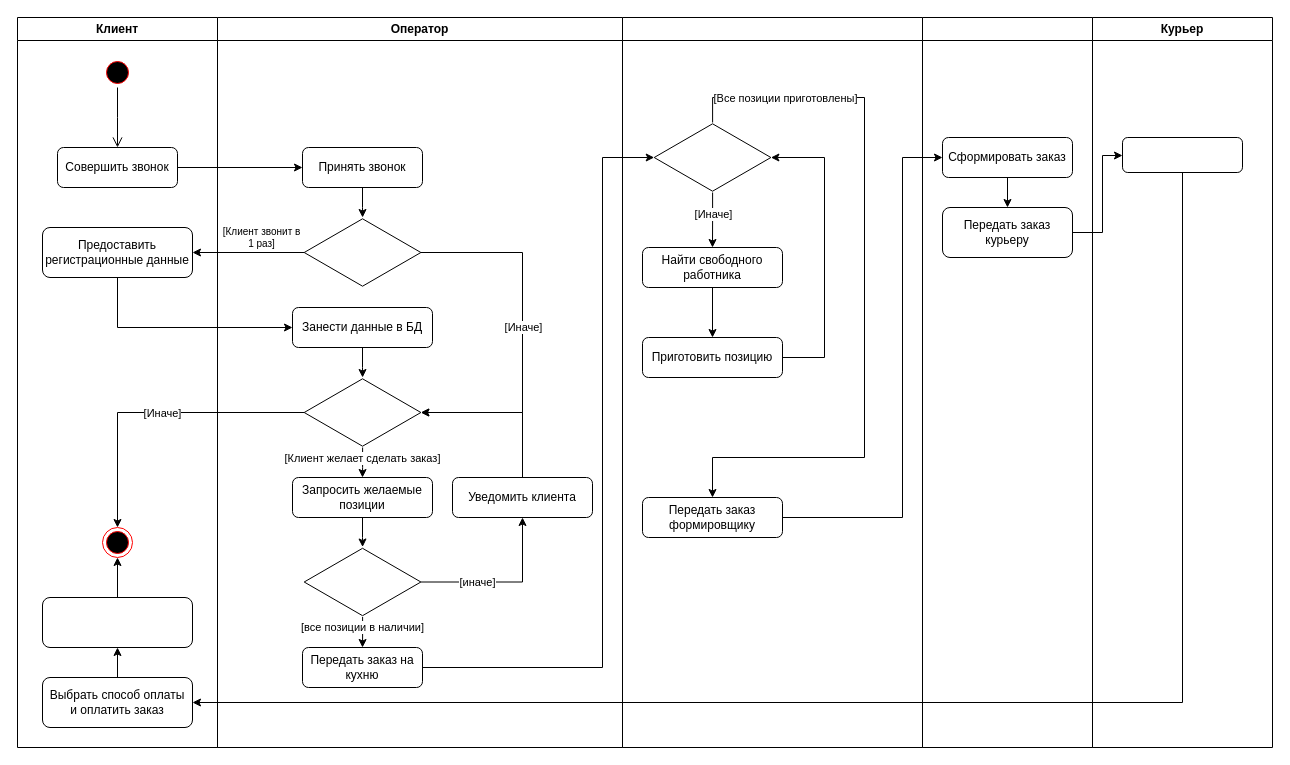
This 1290x765 diagram has some shape labels left out. The shapes that lost their labels are listed below. From the top down, each one's centre as x and y in pixels, then its label:
point (1182, 154): Доставить заказ клиенту
point (772, 382): Кухня
point (1007, 382): Формировщик
point (117, 622): Получить заказ
